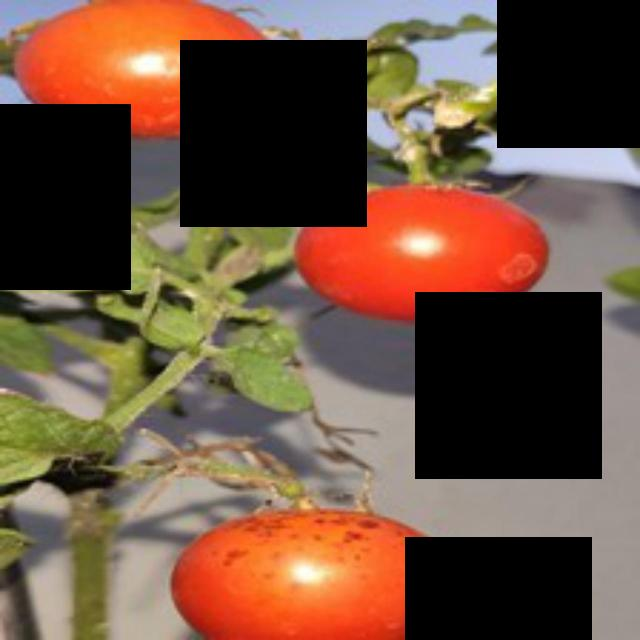tomato: (11, 0, 293, 146), (160, 506, 474, 636), (288, 189, 558, 320)
